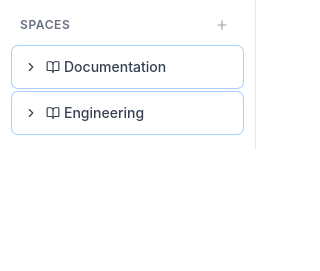
Sidebar component › collapses space on second chevron click
This screenshot has width=320, height=271.
Expected: the link "Documentation" is shown, [64,58,166,75]
Click the button named "Expand Documentation": coordinates (31, 67) [20,56,42,78]
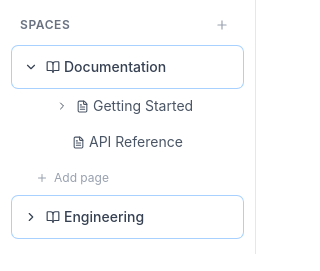
Now the link "Getting Started" is shown, box [93,97,193,114]
Click the button named "Collapse Documentation": coordinates (31, 67) [20,56,42,78]
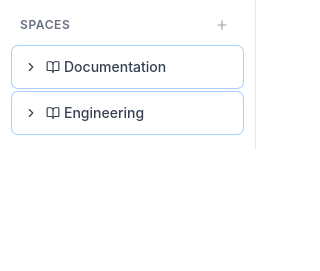
Now the link "Getting Started" is gone
